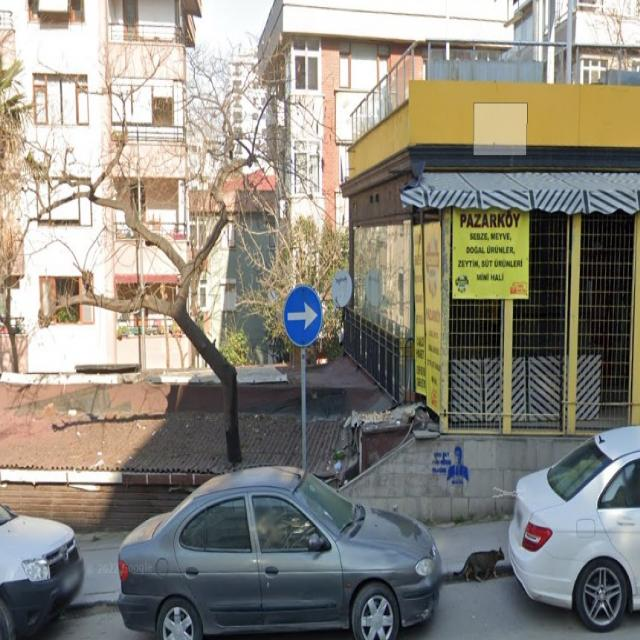Turn Right: (284, 290, 325, 349)
